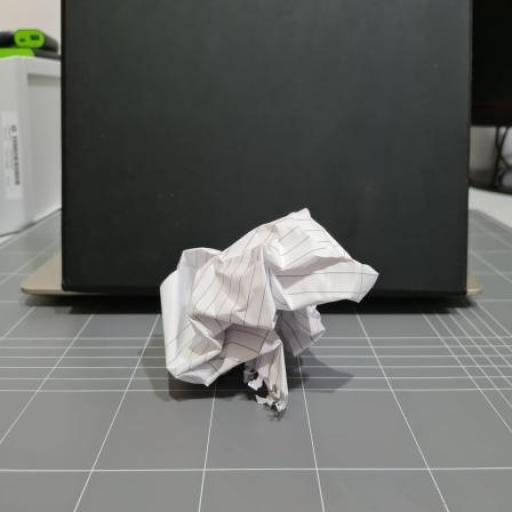paper: (140, 187, 394, 414)
